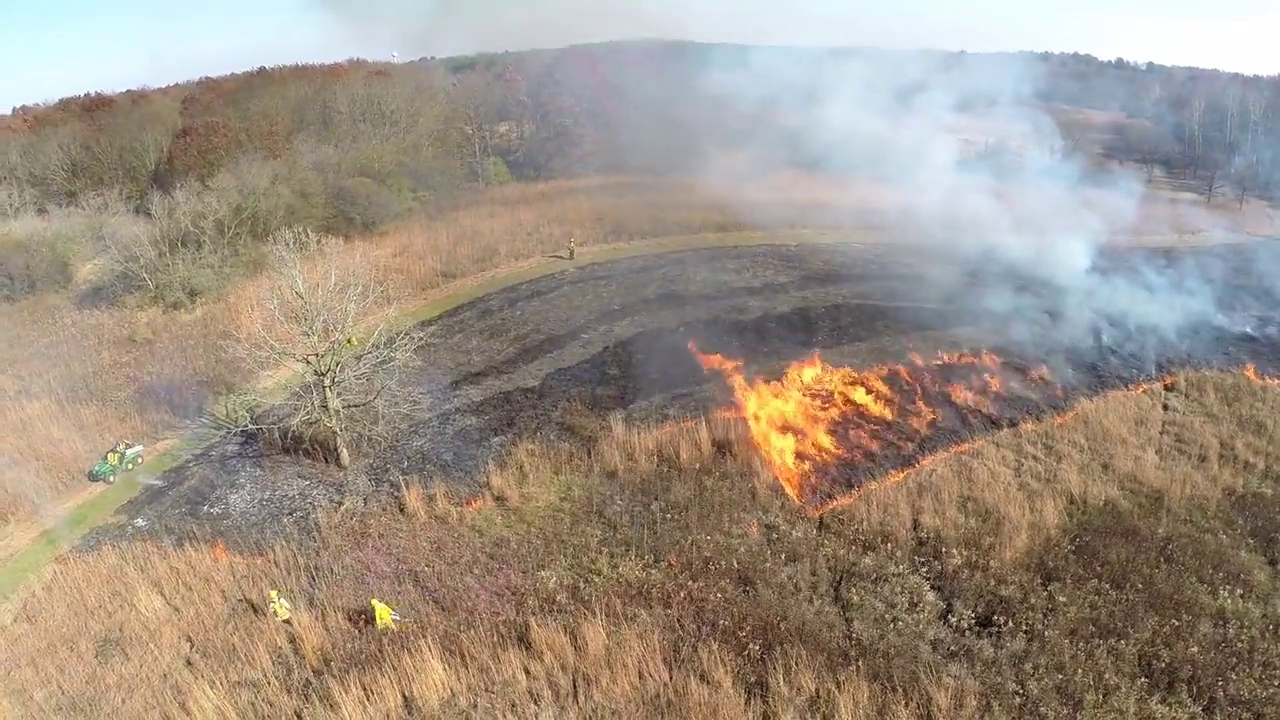forest_fire: (690, 343, 1076, 512), (1240, 362, 1279, 384)
